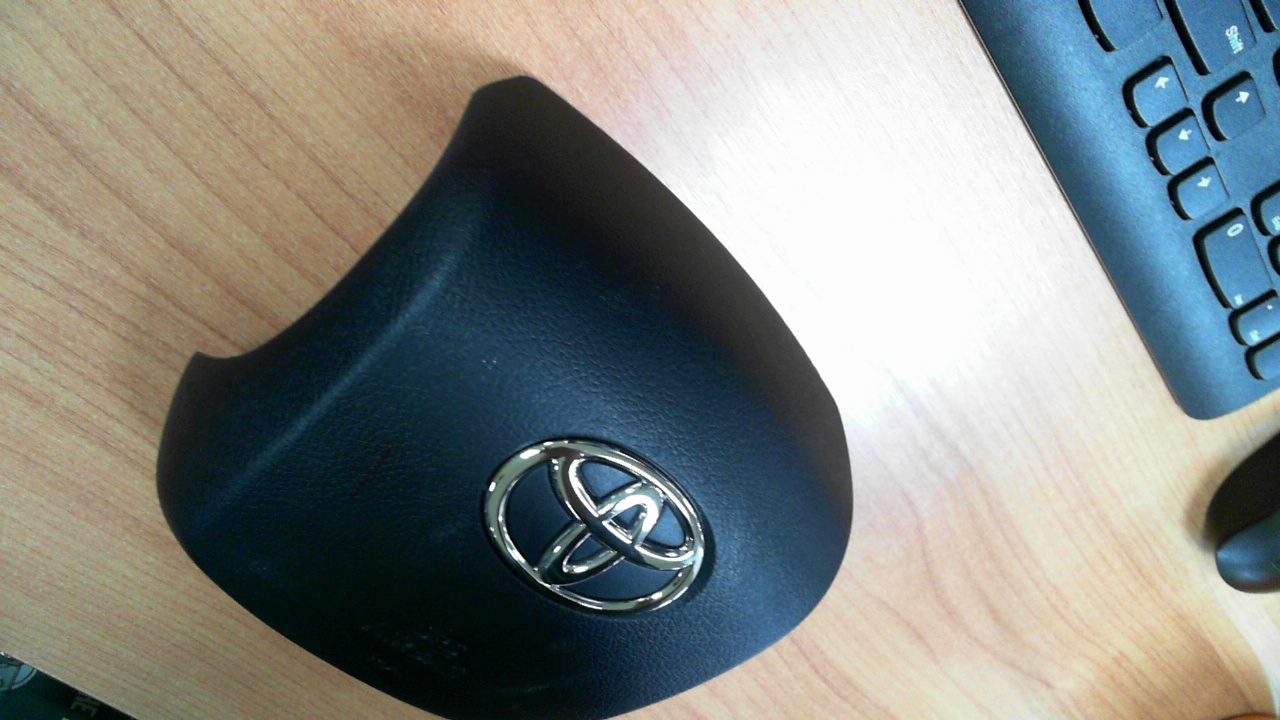Airbag: (156, 74, 855, 720)
Toyota: (484, 439, 706, 612)
